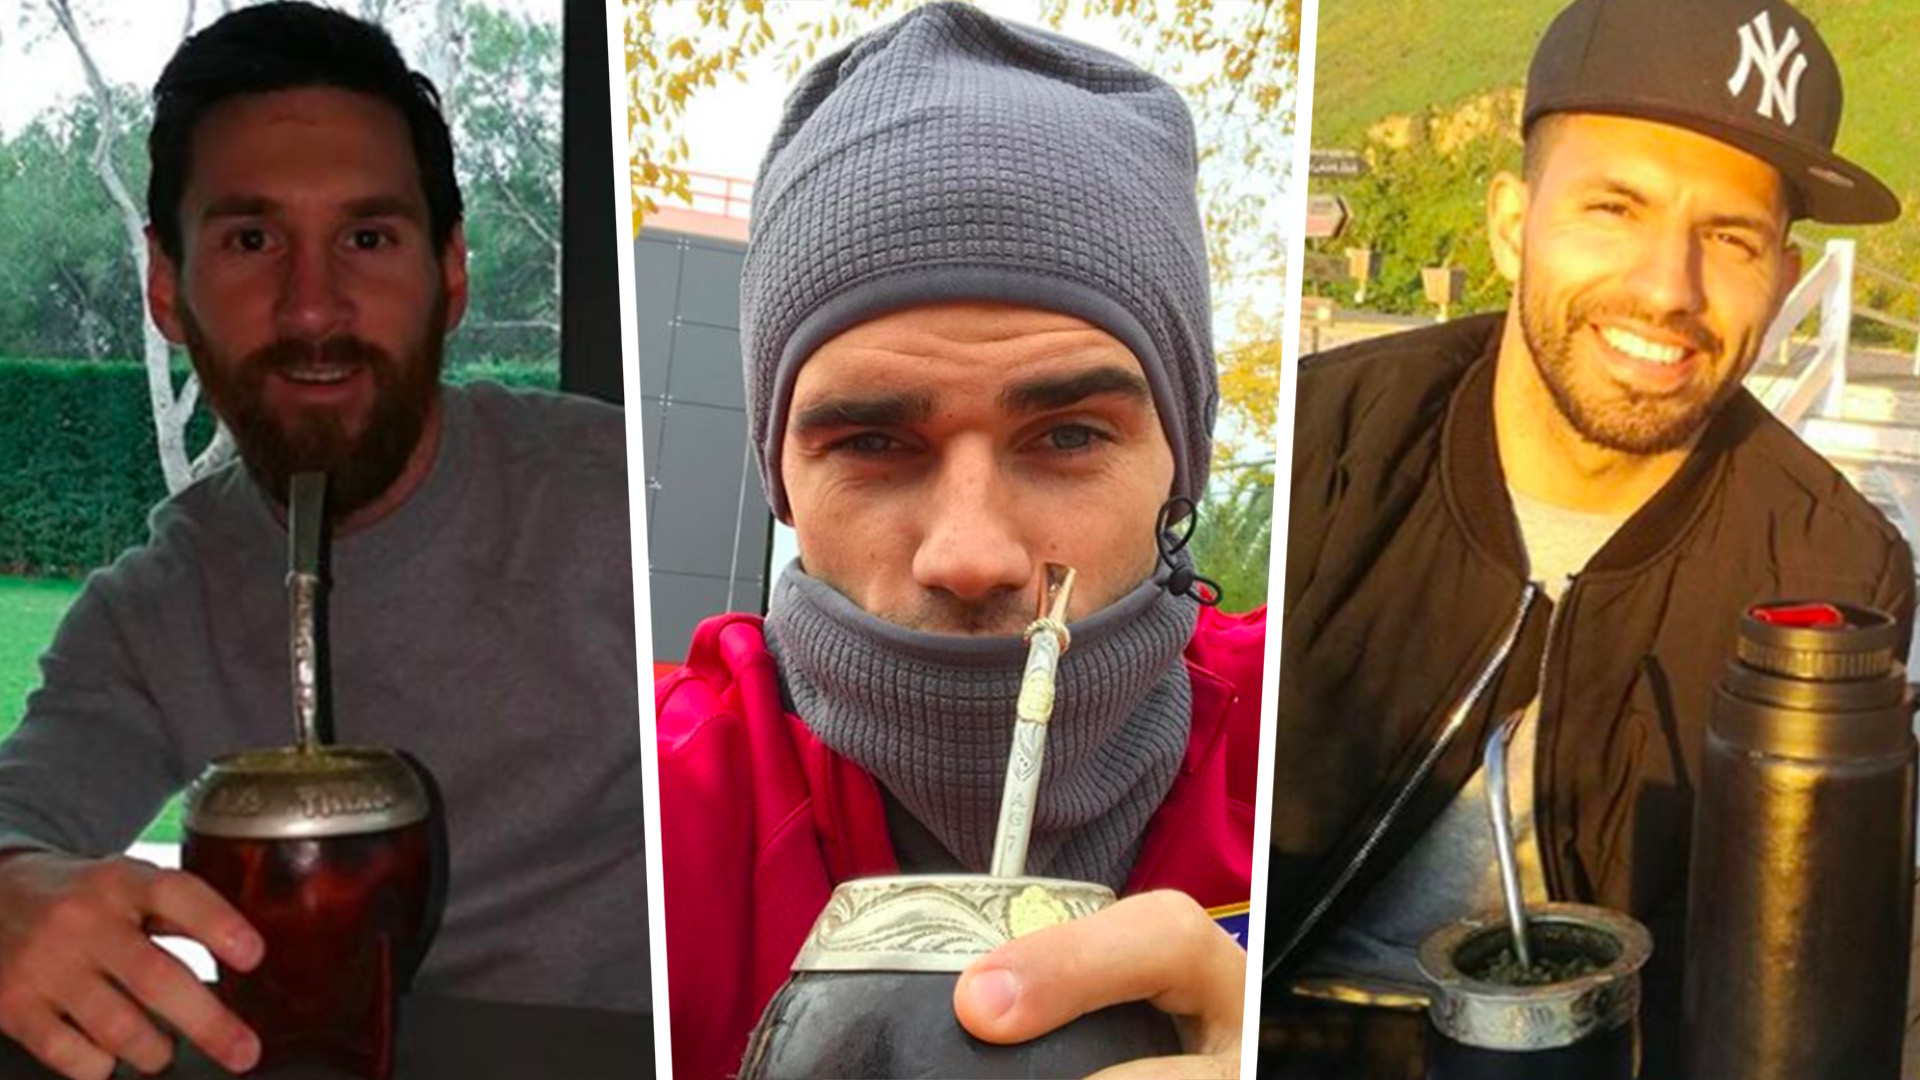guampa: (132, 477, 468, 1065), (766, 582, 1149, 1080), (1389, 703, 1680, 1077)
